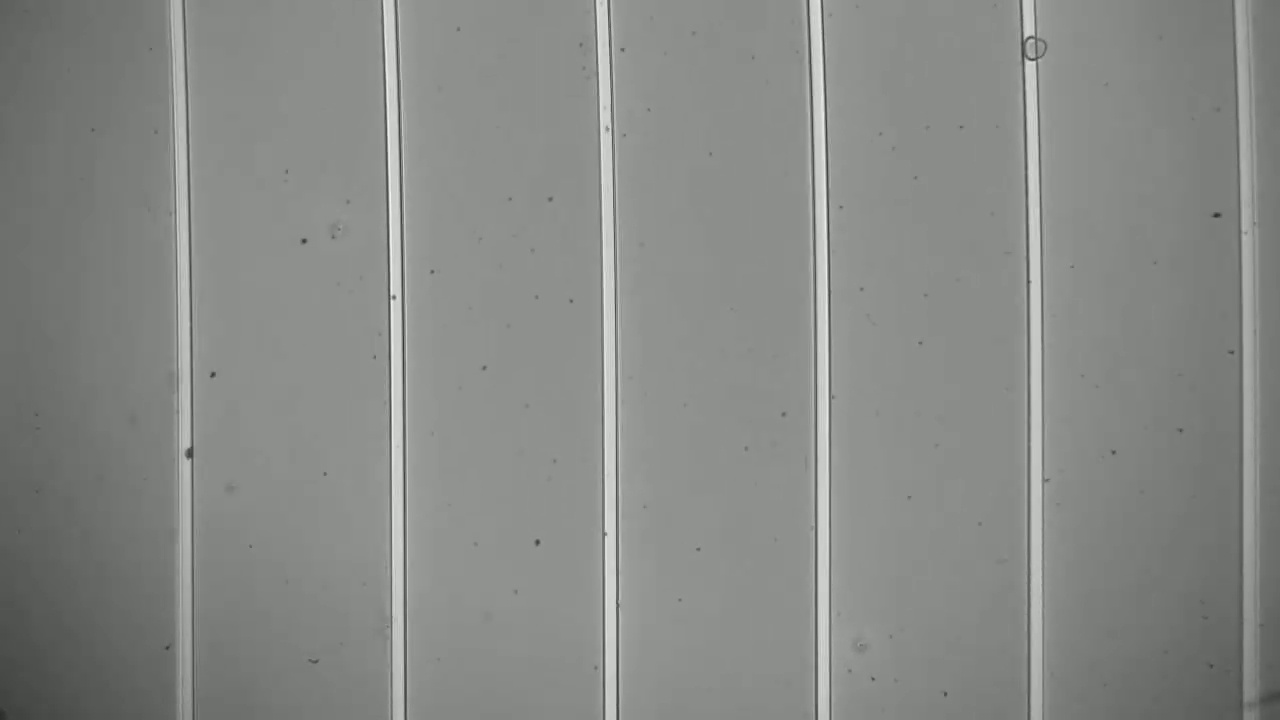stains_enbedded: (172, 445, 201, 468)
